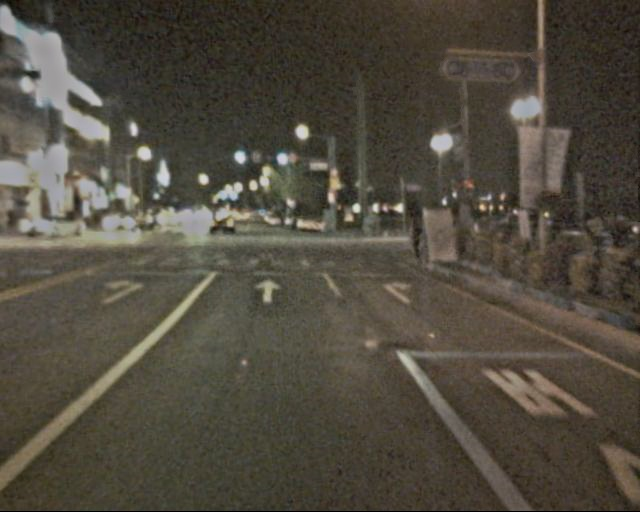person: (602, 219, 627, 281), (582, 222, 605, 278), (406, 221, 427, 272)
